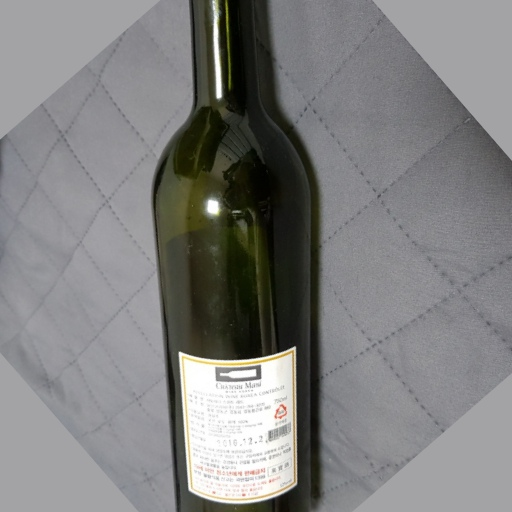Glass_2: (148, 1, 330, 512)
